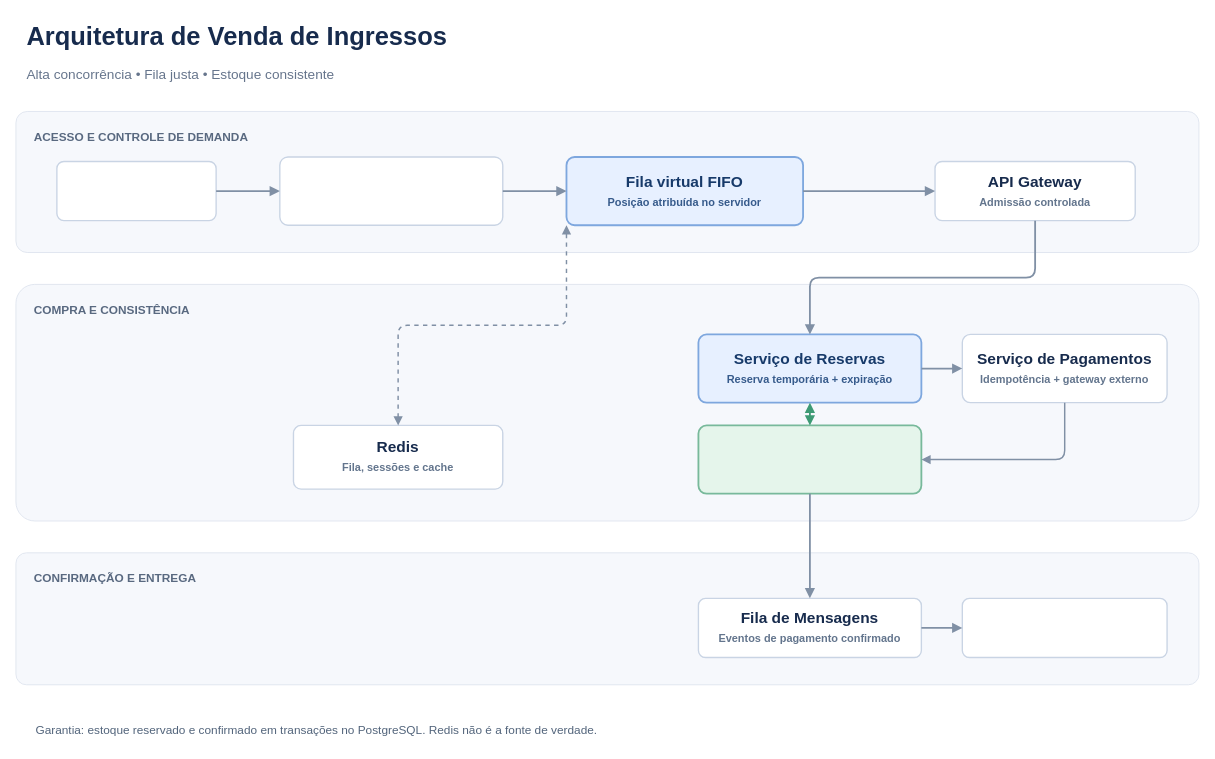
Image size: 1215x759. Some labels were removed from this diagram. The centre of each missing label's shape, as x and y in pixels:
Distribuição e Proteção CDN + WAF: cache, filtros e segurança: the point at 391,190
Emissão de Ingressos Worker + QR Code + notificação: the point at 1064,627
PostgreSQL Transação atômica + estoque: the point at 809,459
Usuários Alta demanda: the point at 136,190
